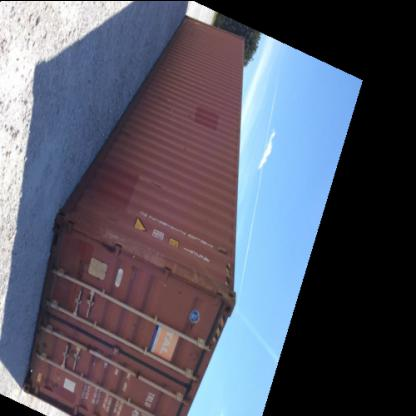Damage: (66, 217, 168, 267), (171, 256, 232, 300), (44, 266, 78, 310)
